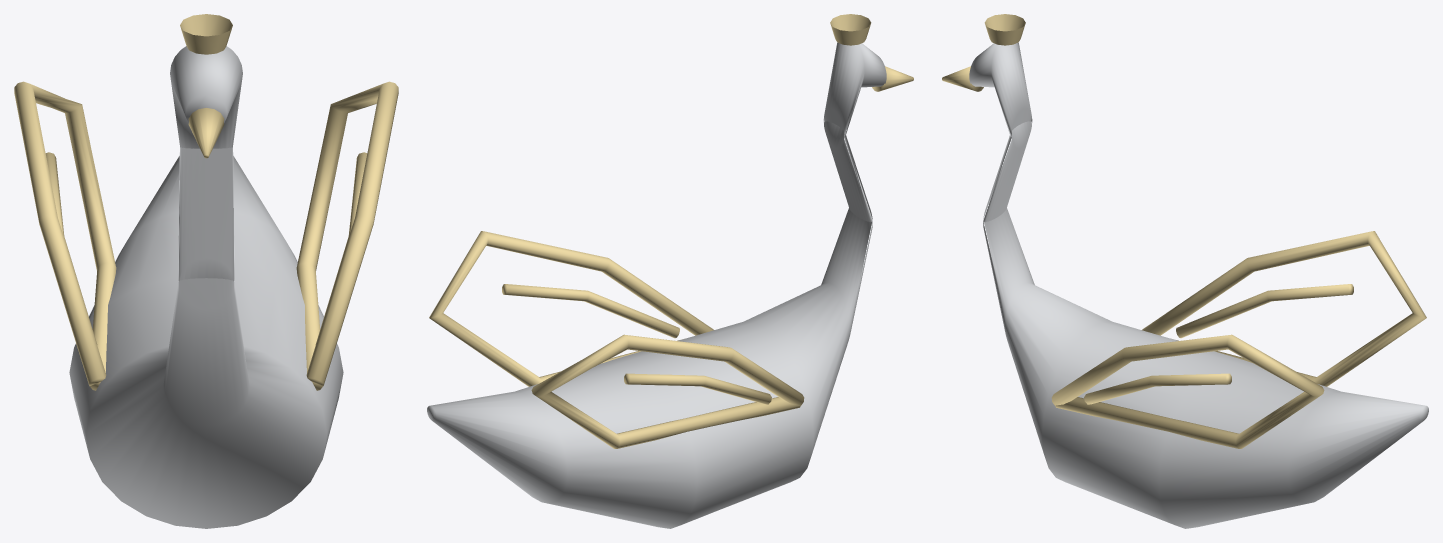
The model's file is cisne.glb.
3 views of the same model, side by side, from view 1: azimuth 30°, elevation 25°; view 2: azimuth 150°, elevation 25°; view 3: azimuth 270°, elevation 25° (orthographic). The views are drawn at different scales.
Parts seen in each view (by area): view 1: Cisne_XVA_Editorial; view 2: Cisne_XVA_Editorial; view 3: Cisne_XVA_Editorial.
Part boxes in pixels (<box>): Cisne_XVA_Editorial: <box>14,14,398,528</box>; Cisne_XVA_Editorial: <box>427,14,913,528</box>; Cisne_XVA_Editorial: <box>942,14,1428,528</box>.
Size of the model in its own units: 0.5323 by 0.764 by 0.7551.
